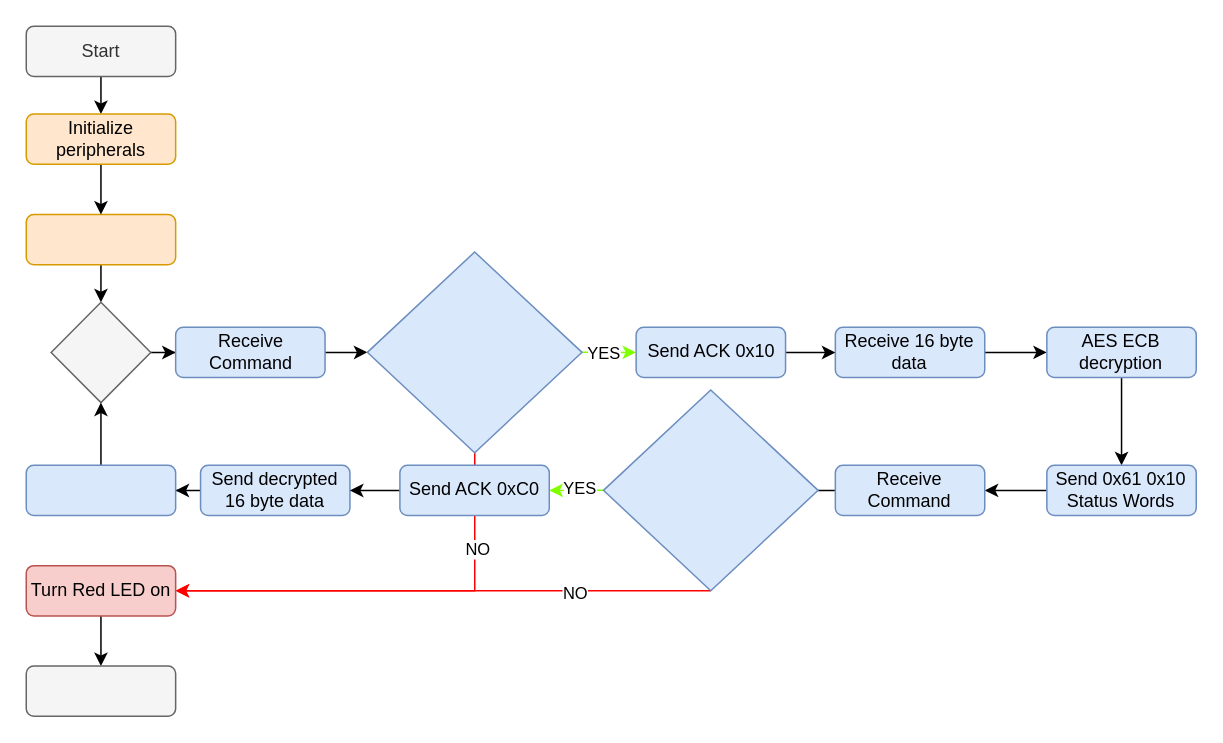
The diagram is 1223 pixels wide and 743 high, and some of its shapes have lost their labels. The centre of each missing label's shape, as x and y in pixels:
Is equal to 0x88 0x10 0x00 0x00 0x10 ?: [474,351]
Is equal to 0x88 0xC0 0x00 0x00 0x10 ?: [710,489]
Send 0x90 0x00 Status Words: [100,490]
Send ATR Command: [100,239]
Terminate: [100,690]
While = 1: [100,352]
